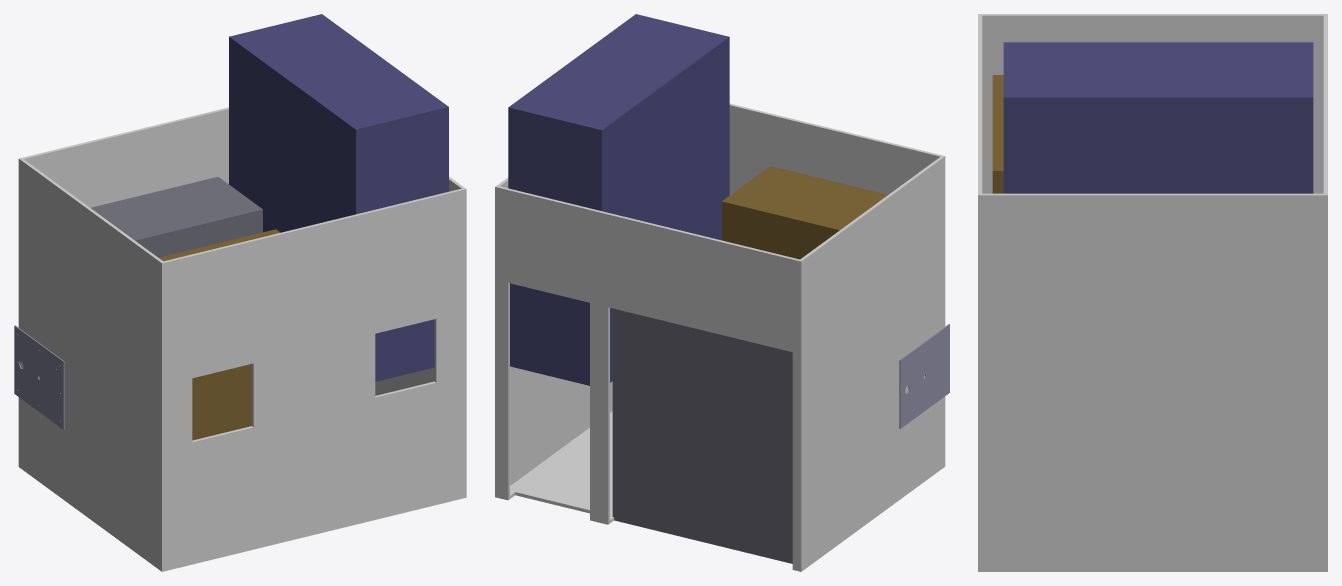
File: assembly-exploded.glb
3 views of the same model, side by side, from view 1: azimuth 30°, elevation 25°; view 2: azimuth 150°, elevation 25°; view 3: azimuth 270°, elevation 25° (orthographic). The views are drawn at different scales.
Parts seen in each view (by area): view 1: container_shell, GRD-SWG-001, GRD-LVS-001, GRD-XFM-001, ARC-PLT-CG; view 2: container_shell, GRD-SWG-001, GRD-LVS-001, GRD-XFM-001, ARC-PLT-CG; view 3: container_shell, GRD-SWG-001, GRD-XFM-001.
Boxes of the visible parts, x1,y1,x2,y2 form: container_shell: (18, 107, 466, 571); GRD-SWG-001: (229, 14, 448, 381); GRD-LVS-001: (90, 176, 262, 257); GRD-XFM-001: (159, 229, 280, 440); ARC-PLT-CG: (14, 325, 64, 429); container_shell: (495, 103, 945, 571); GRD-SWG-001: (508, 14, 729, 385); GRD-LVS-001: (612, 308, 792, 563); GRD-XFM-001: (722, 166, 887, 259); ARC-PLT-CG: (899, 324, 949, 428); container_shell: (978, 14, 1327, 571); GRD-SWG-001: (1003, 42, 1313, 193); GRD-XFM-001: (992, 75, 1003, 193).
Size of the model in its own units: 3496 by 3613 by 2438.
